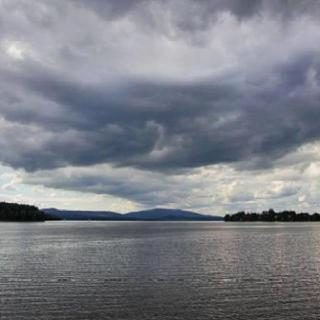Altostratus: (0, 0, 320, 232)
